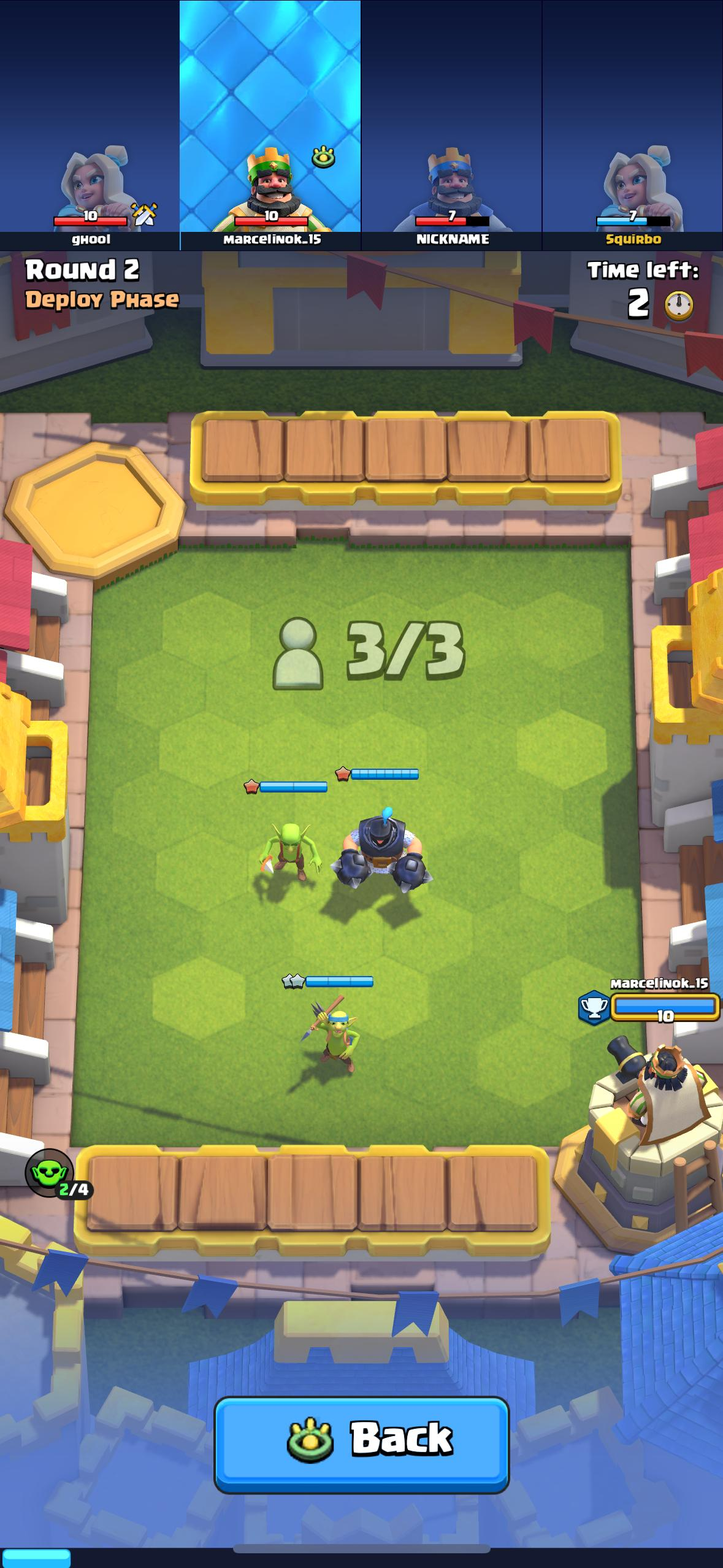goblin: (259, 816, 324, 884)
mega: (336, 808, 432, 896)
spear: (304, 993, 361, 1068)
